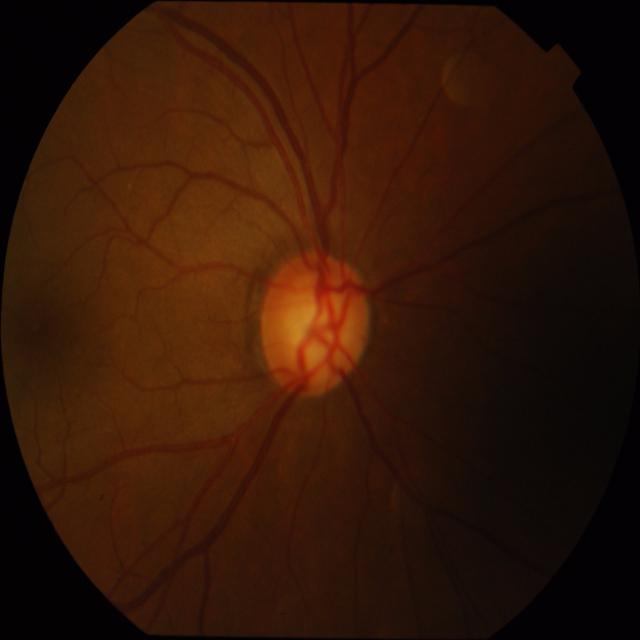OC: (272, 264, 363, 388)
OD: (258, 250, 372, 398)
